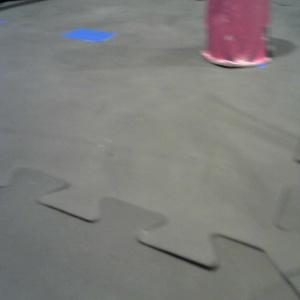Right: (201, 1, 274, 67)
